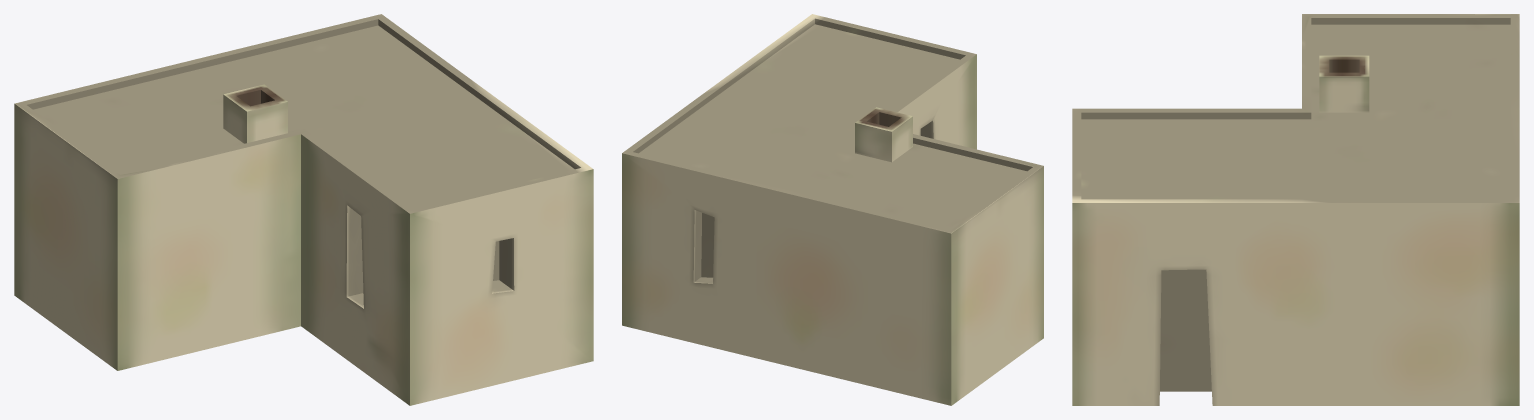
Rendered from House3.fbx.
3 views of the same model, side by side, from view 1: azimuth 30°, elevation 25°; view 2: azimuth 150°, elevation 25°; view 3: azimuth 270°, elevation 25° (orthographic). The views are drawn at different scales.
Visible parts, largest first — view 1: House 3; view 2: House 3; view 3: House 3.
Boxes of the visible parts, bbox=[...] form: House 3: bbox=[14, 14, 593, 405]; House 3: bbox=[622, 14, 1043, 405]; House 3: bbox=[1072, 14, 1519, 405].
Size of the model in its own units: 400 by 229 by 400.
